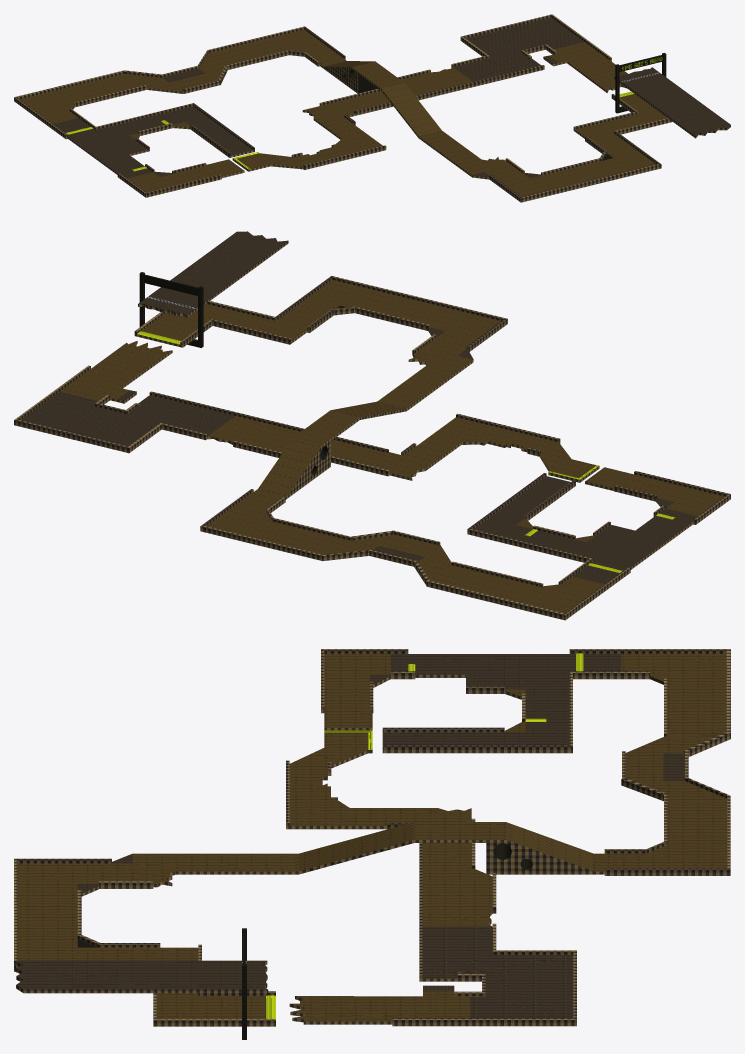
3 views of the same model, one above another, from view 1: azimuth 30°, elevation 25°; view 2: azimuth 150°, elevation 25°; view 3: azimuth 270°, elevation 25° (orthographic). The views are drawn at different scales.
Parts seen in each view (by area): view 1: King_Boo_s_Area_2_Main-route1, King_Boo_s_Area_2_Main-mur, King_Boo_s_Area_2_Main-route2, King_Boo_s_Area_2_Main-route3, King_Boo_s_Area_2_Main-dessous, King_Boo_s_Area_2_Main-fasttrick; view 2: King_Boo_s_Area_2_Main-route1, King_Boo_s_Area_2_Main-mur, King_Boo_s_Area_2_Main-route2, King_Boo_s_Area_2_Main-route3, King_Boo_s_Area_2_Main-dessous; view 3: King_Boo_s_Area_2_Main-route1, King_Boo_s_Area_2_Main-mur, King_Boo_s_Area_2_Main-route2, King_Boo_s_Area_2_Main-route3, King_Boo_s_Area_2_Main-dessous, King_Boo_s_Area_2_Main-fasttrick.
Boxes of the visible parts, x1=… form: King_Boo_s_Area_2_Main-route1: x1=20, y1=30, x2=666, y2=197; King_Boo_s_Area_2_Main-mur: x1=14, y1=14, x2=730, y2=202; King_Boo_s_Area_2_Main-route2: x1=53, y1=55, x2=730, y2=178; King_Boo_s_Area_2_Main-route3: x1=453, y1=17, x2=584, y2=81; King_Boo_s_Area_2_Main-dessous: x1=343, y1=53, x2=666, y2=160; King_Boo_s_Area_2_Main-fasttrick: x1=66, y1=57, x2=662, y2=171; King_Boo_s_Area_2_Main-route1: x1=60, y1=280, x2=723, y2=613; King_Boo_s_Area_2_Main-mur: x1=14, y1=241, x2=730, y2=620; King_Boo_s_Area_2_Main-route2: x1=117, y1=231, x2=697, y2=583; King_Boo_s_Area_2_Main-route3: x1=21, y1=392, x2=234, y2=446; King_Boo_s_Area_2_Main-dessous: x1=139, y1=272, x2=438, y2=566; King_Boo_s_Area_2_Main-route1: x1=17, y1=654, x2=727, y2=1021; King_Boo_s_Area_2_Main-mur: x1=14, y1=649, x2=730, y2=1026; King_Boo_s_Area_2_Main-route2: x1=14, y1=654, x2=684, y2=990; King_Boo_s_Area_2_Main-route3: x1=422, y1=926, x2=573, y2=1018; King_Boo_s_Area_2_Main-dessous: x1=77, y1=710, x2=663, y2=1039; King_Boo_s_Area_2_Main-fasttrick: x1=266, y1=653, x2=583, y2=1018.
Size of the model in its own units: 71592 by 6579 by 57791.
Materials: 7 (7 with a texture image).
